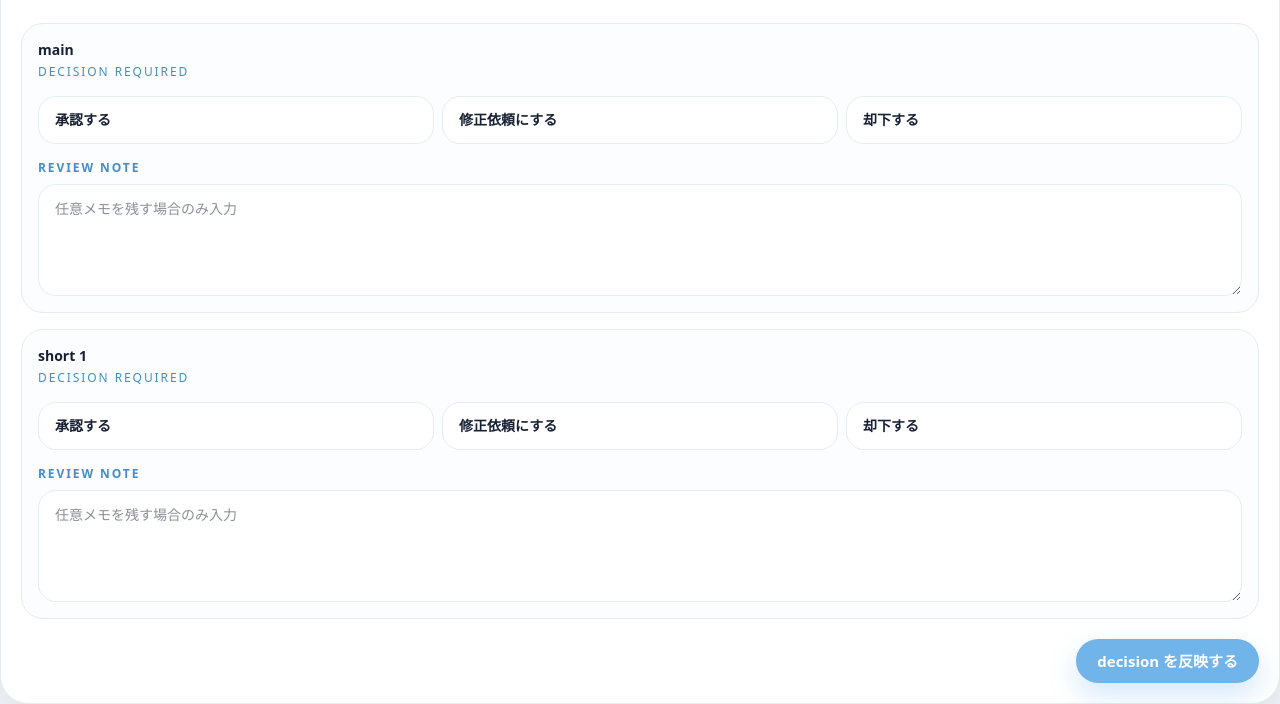
Test: SubmissionReviewDecisionForm › requires an explicit decision for every pending target
(page scrolled)
Click the button "decision を反映する" at {"x": 1168, "y": 661}, box [1076, 639, 1259, 683]
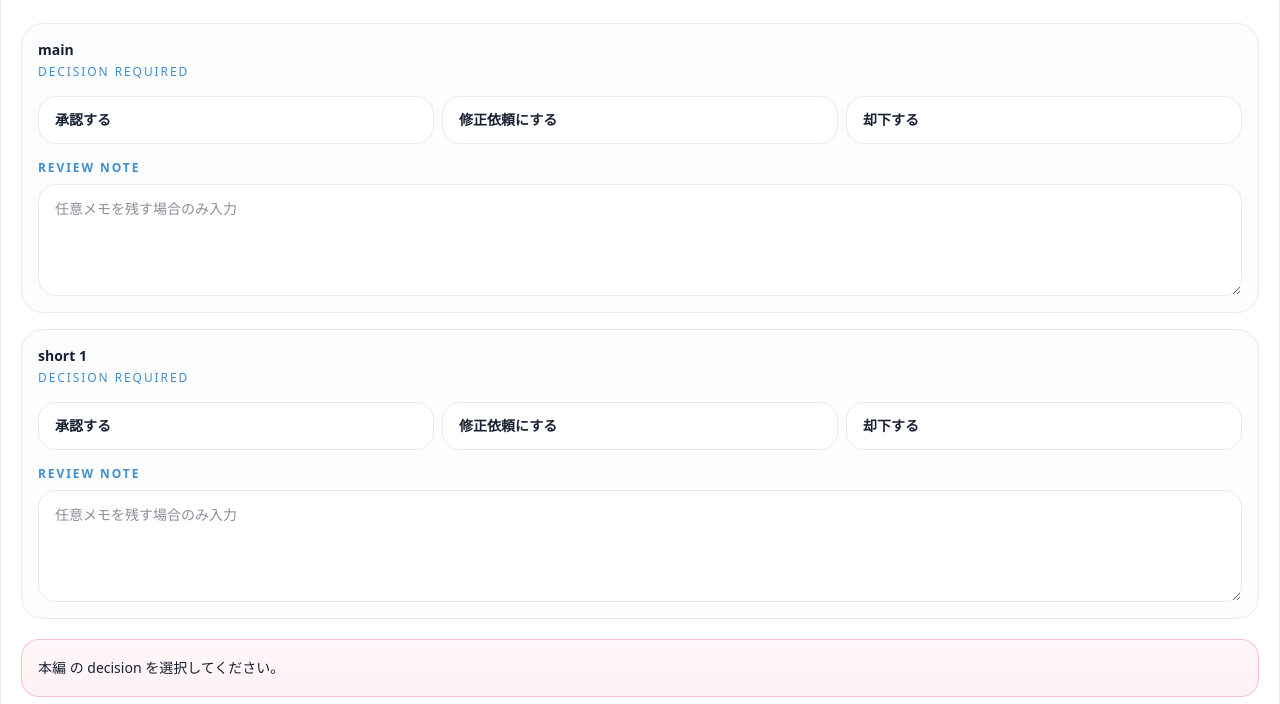
Now the message reads "本編 の decision を選択してください。", box [38, 658, 284, 677]
